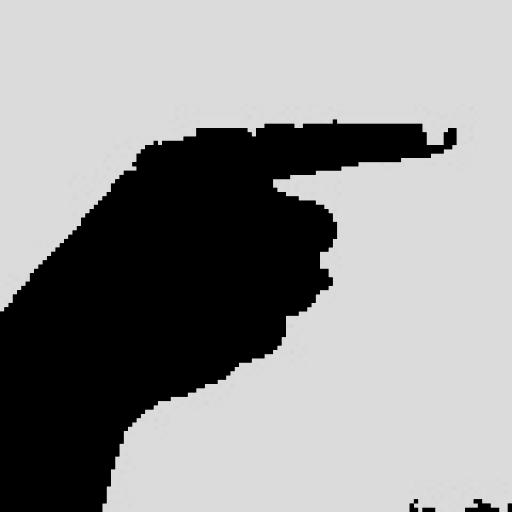index_left: (0, 119, 458, 352)
